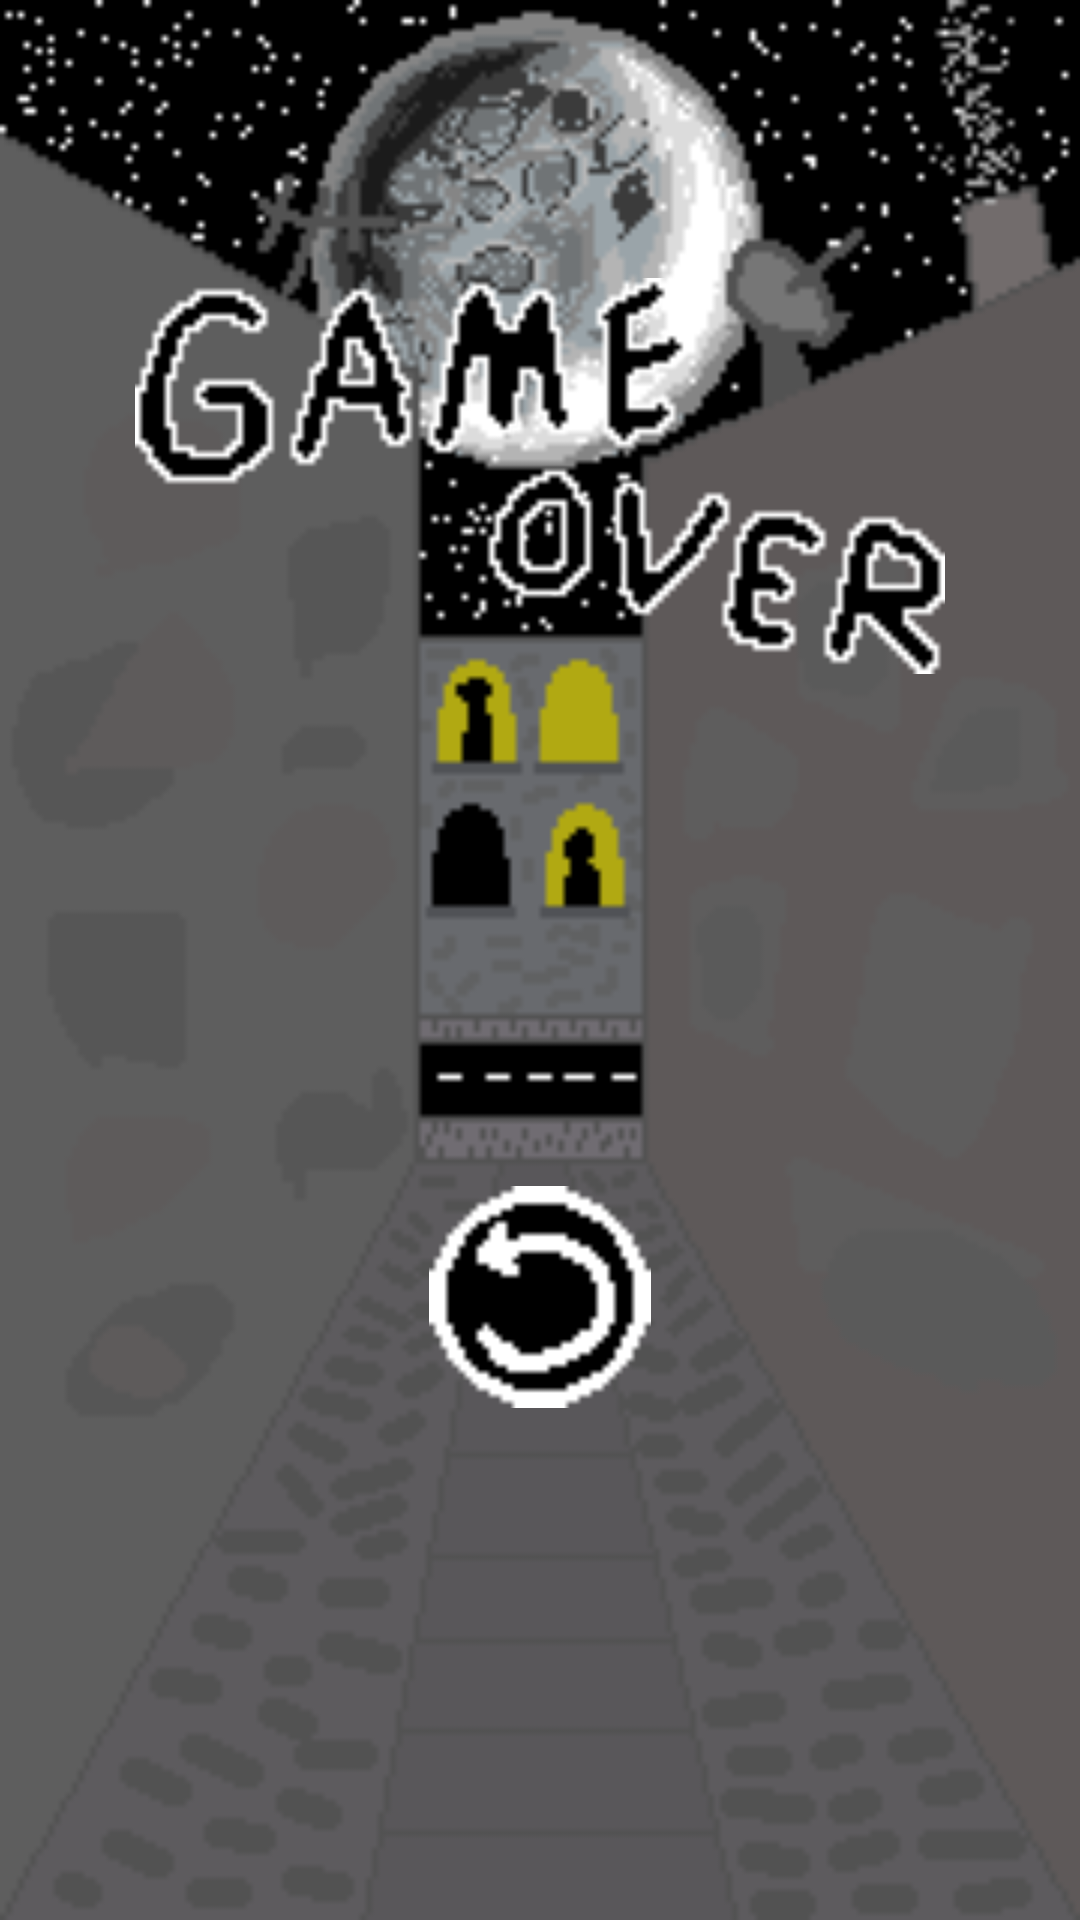

Icon bounding boxes for this 1080*1920 phone screenshot, format (x1, y1, x2, y2):
restart: (429, 1186, 651, 1408)
